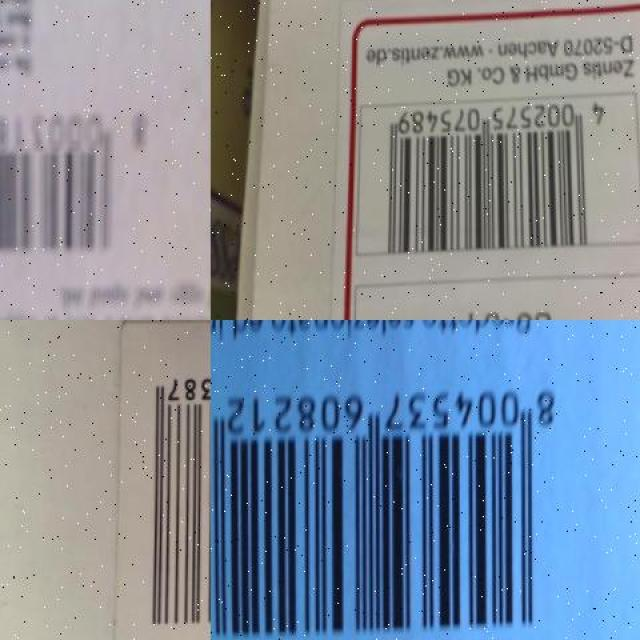Barcode: (211, 369, 568, 640), (356, 100, 640, 259), (0, 94, 157, 272), (127, 348, 210, 640)
